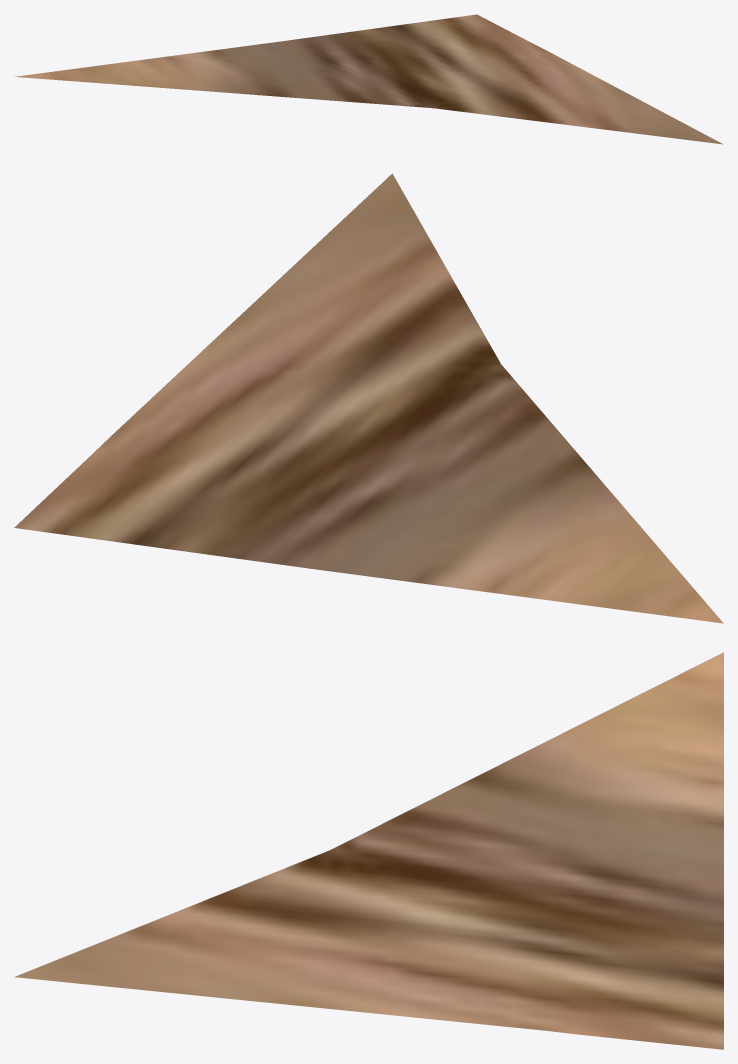
The picture shows the model from 3 angles, top to bottom: view 1: azimuth 30°, elevation 25°; view 2: azimuth 150°, elevation 25°; view 3: azimuth 270°, elevation 25°; orthographic projection. The views are drawn at different scales.
Bounding box in the file's own units: 0.5395 × 0.0563 × 0.4981.
1 material, 1 textured.
